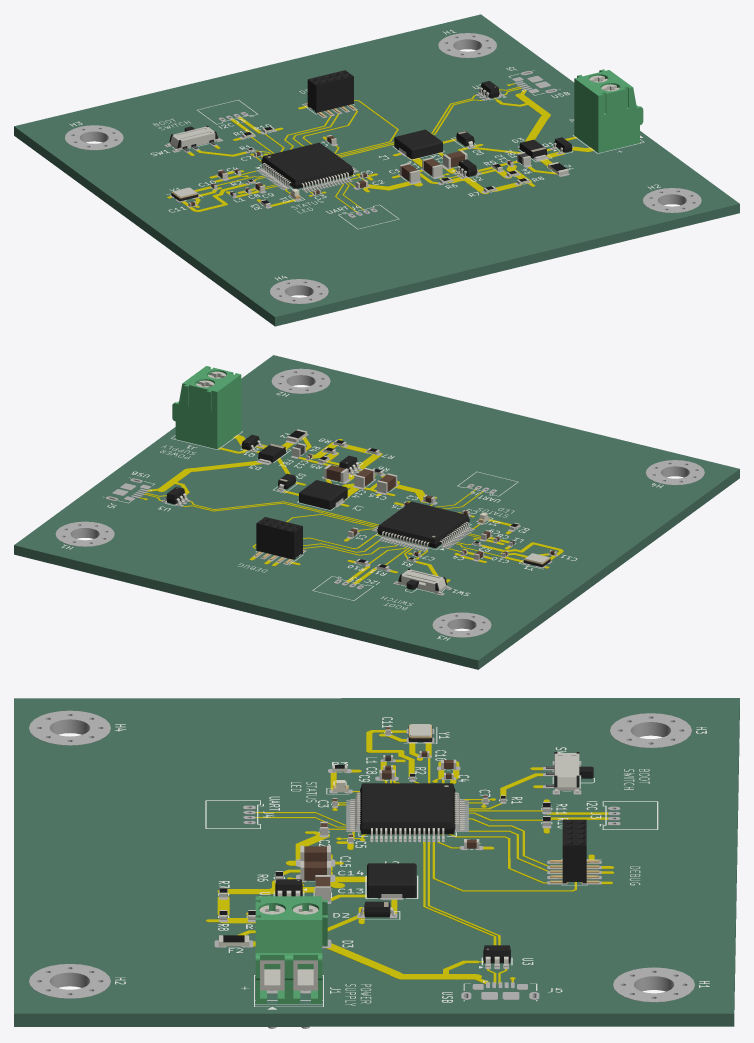
File: stm32_usb.glb
The picture shows the model from 3 angles, top to bottom: view 1: azimuth 30°, elevation 25°; view 2: azimuth 150°, elevation 25°; view 3: azimuth 270°, elevation 25°; orthographic projection. The views are drawn at different scales.
Visible parts, largest first — view 1: =>[0:1:1:50], =>[0:1:1:47], =>[0:1:1:46], =>[0:1:1:43], =>[0:1:1:17], =>[0:1:1:49], =>[0:1:1:35], =>[0:1:1:25], =>[0:1:1:45]; view 2: =>[0:1:1:50], =>[0:1:1:47], =>[0:1:1:46], =>[0:1:1:43], =>[0:1:1:17], =>[0:1:1:49], =>[0:1:1:35], =>[0:1:1:25], =>[0:1:1:45]; view 3: =>[0:1:1:50], =>[0:1:1:47], =>[0:1:1:46], =>[0:1:1:43], =>[0:1:1:17], =>[0:1:1:49], =>[0:1:1:35], =>[0:1:1:25], =>[0:1:1:45], =>[0:1:1:3].
Part boxes in pixels (left/top/right/bottom): =>[0:1:1:50]: left=14, top=14, right=739, bottom=326; =>[0:1:1:47]: left=65, top=33, right=701, bottom=303; =>[0:1:1:46]: left=167, top=83, right=594, bottom=212; =>[0:1:1:43]: left=574, top=69, right=643, bottom=152; =>[0:1:1:17]: left=258, top=142, right=356, bottom=191; =>[0:1:1:49]: left=69, top=30, right=660, bottom=280; =>[0:1:1:35]: left=306, top=70, right=355, bottom=116; =>[0:1:1:25]: left=394, top=129, right=442, bottom=159; =>[0:1:1:45]: left=166, top=125, right=220, bottom=151; =>[0:1:1:50]: left=14, top=355, right=739, bottom=669; =>[0:1:1:47]: left=55, top=368, right=704, bottom=637; =>[0:1:1:46]: left=139, top=434, right=563, bottom=584; =>[0:1:1:43]: left=172, top=366, right=241, bottom=449; =>[0:1:1:17]: left=374, top=501, right=472, bottom=550; =>[0:1:1:49]: left=61, top=391, right=663, bottom=640; =>[0:1:1:35]: left=255, top=517, right=304, bottom=563; =>[0:1:1:25]: left=299, top=480, right=347, bottom=509; =>[0:1:1:45]: left=395, top=568, right=449, bottom=594; =>[0:1:1:50]: left=14, top=698, right=739, bottom=1026; =>[0:1:1:47]: left=29, top=710, right=694, bottom=1002; =>[0:1:1:46]: left=206, top=730, right=614, bottom=984; =>[0:1:1:43]: left=255, top=896, right=327, bottom=1028; =>[0:1:1:17]: left=350, top=783, right=464, bottom=839; =>[0:1:1:49]: left=115, top=717, right=709, bottom=1009; =>[0:1:1:35]: left=550, top=819, right=599, bottom=883; =>[0:1:1:25]: left=367, top=863, right=416, bottom=897; =>[0:1:1:45]: left=546, top=752, right=593, bottom=792; =>[0:1:1:3]: left=483, top=945, right=510, bottom=966.
Bounding box in the file's own units: 0.0784 × 0.0137 × 0.0762.
